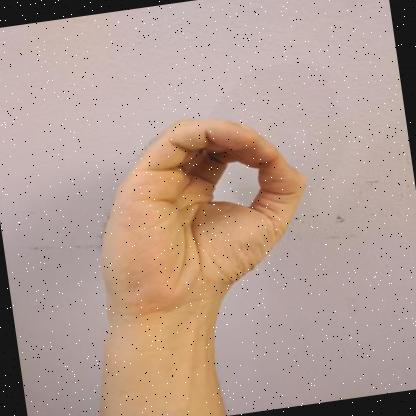O: (100, 119, 306, 321)
